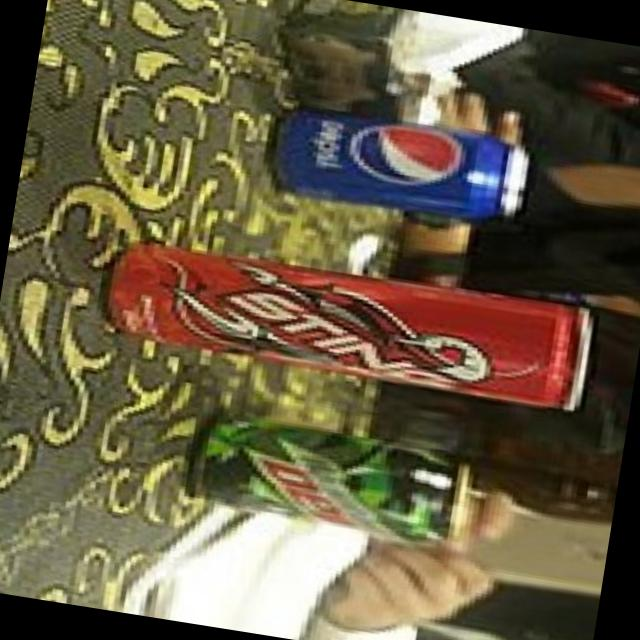metal: (110, 242, 594, 408), (274, 111, 529, 220)
